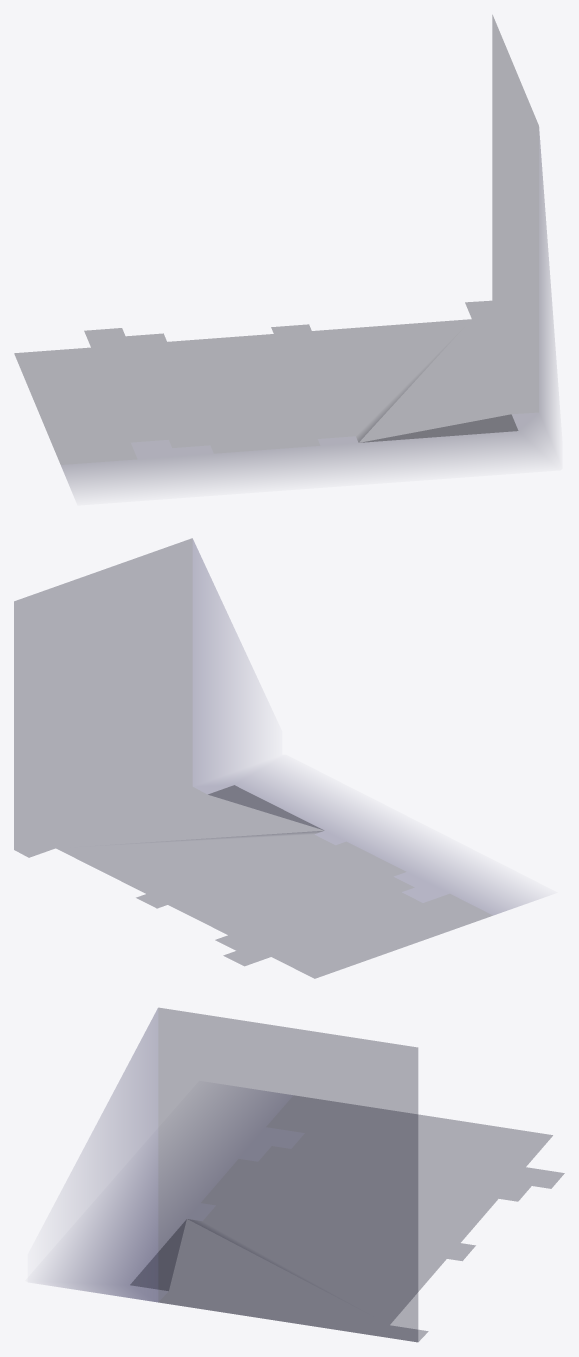
3 views of the same model, one above another, from view 1: azimuth 30°, elevation 25°; view 2: azimuth 150°, elevation 25°; view 3: azimuth 270°, elevation 25° (orthographic). The views are drawn at different scales.
Visible parts, largest first — view 1: Joint_0_Object_0; view 2: Joint_0_Object_0; view 3: Joint_0_Object_0.
Part boxes in pixels (bbox=[...]): Joint_0_Object_0: bbox=[14, 15, 552, 488]; Joint_0_Object_0: bbox=[14, 538, 528, 978]; Joint_0_Object_0: bbox=[46, 1008, 564, 1342].
Size of the model in its own units: 817 by 427 by 723.
1 material, 1 textured.
